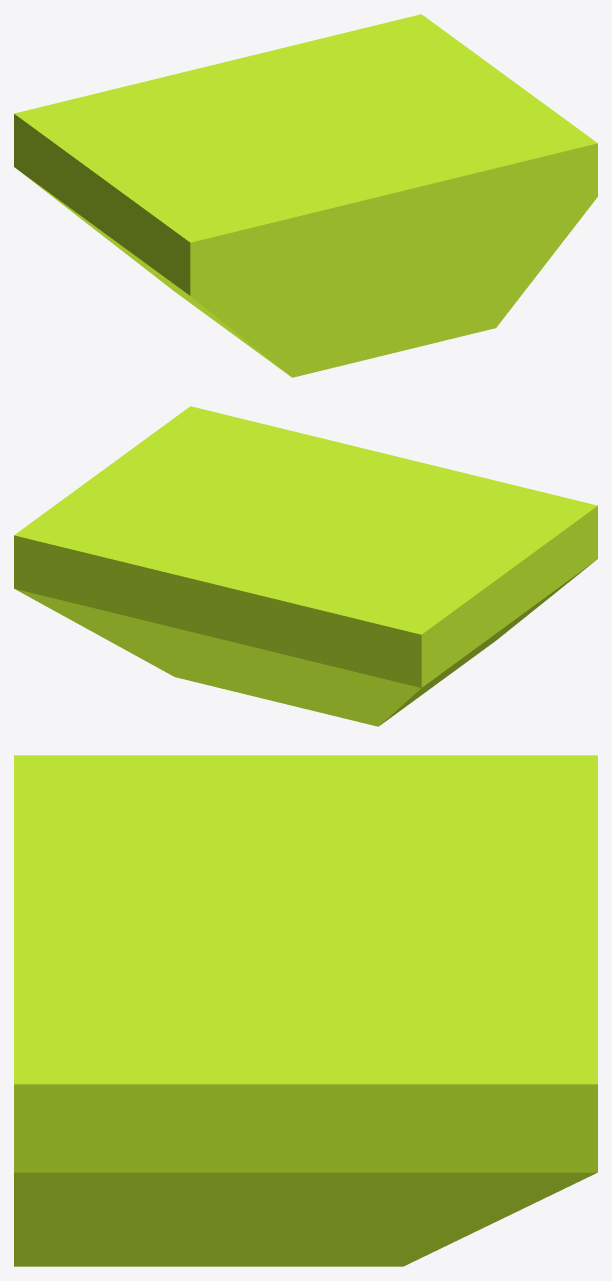
The model's file is TrooperBatteryDefault.fbx.
3 renders of one model, top to bottom at view 1: azimuth 30°, elevation 25°; view 2: azimuth 150°, elevation 25°; view 3: azimuth 270°, elevation 25°, orthographic. The views are drawn at different scales.
Parts seen in each view (by area): view 1: Battery; view 2: Battery; view 3: Battery.
Part boxes in pixels (bbox=[...]): Battery: bbox=[14, 14, 597, 377]; Battery: bbox=[14, 406, 597, 726]; Battery: bbox=[14, 755, 597, 1266].
Size of the model in its own units: 102 by 38.1 by 76.2.
